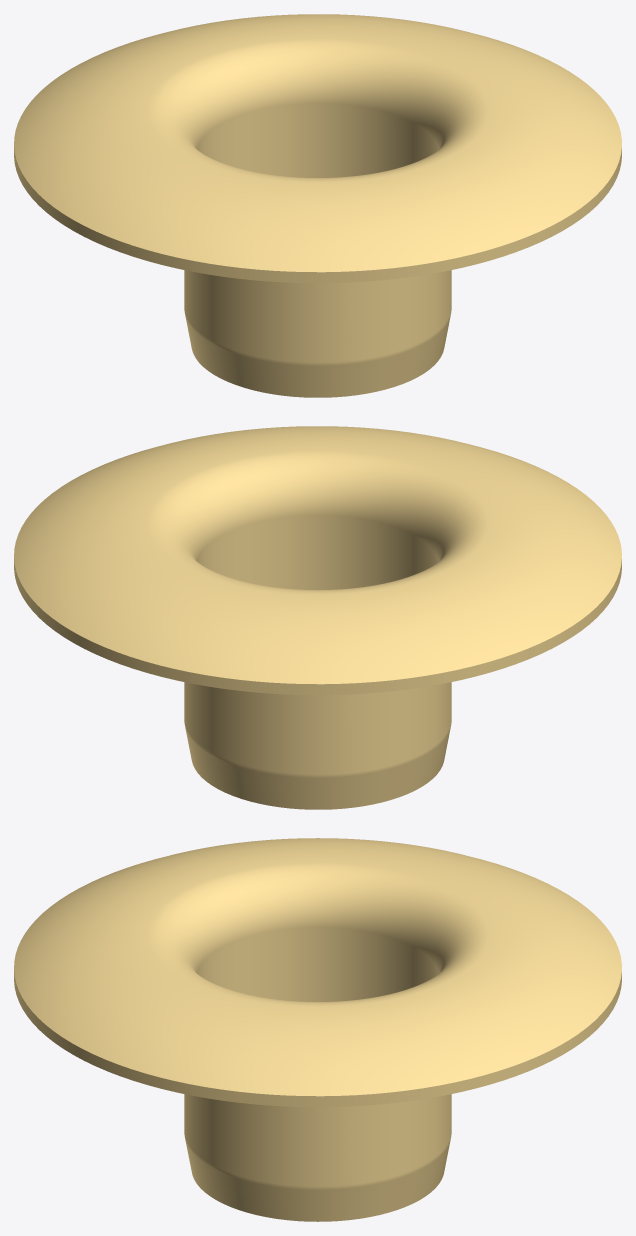
File: Ojalete_3_16_Grande.glb
3 renders of one model, top to bottom at view 1: azimuth 30°, elevation 25°; view 2: azimuth 150°, elevation 25°; view 3: azimuth 270°, elevation 25°, orthographic.
Parts seen in each view (by area): view 1: TRPR Ojalete 3-16 Grande ConfecciÃ³n V2; view 2: TRPR Ojalete 3-16 Grande ConfecciÃ³n V2; view 3: TRPR Ojalete 3-16 Grande ConfecciÃ³n V2.
Boxes of the visible parts, x1,y1,x2,y2 form: TRPR Ojalete 3-16 Grande ConfecciÃ³n V2: [14, 14, 621, 397]; TRPR Ojalete 3-16 Grande ConfecciÃ³n V2: [14, 426, 621, 809]; TRPR Ojalete 3-16 Grande ConfecciÃ³n V2: [14, 838, 621, 1221].
Size of the model in its own units: 0.0125 by 0.0053 by 0.0125.
